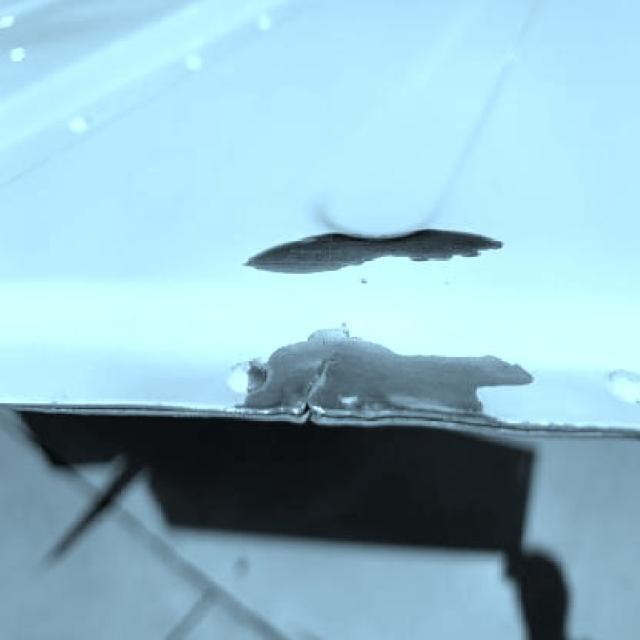crack: (284, 350, 352, 408)
